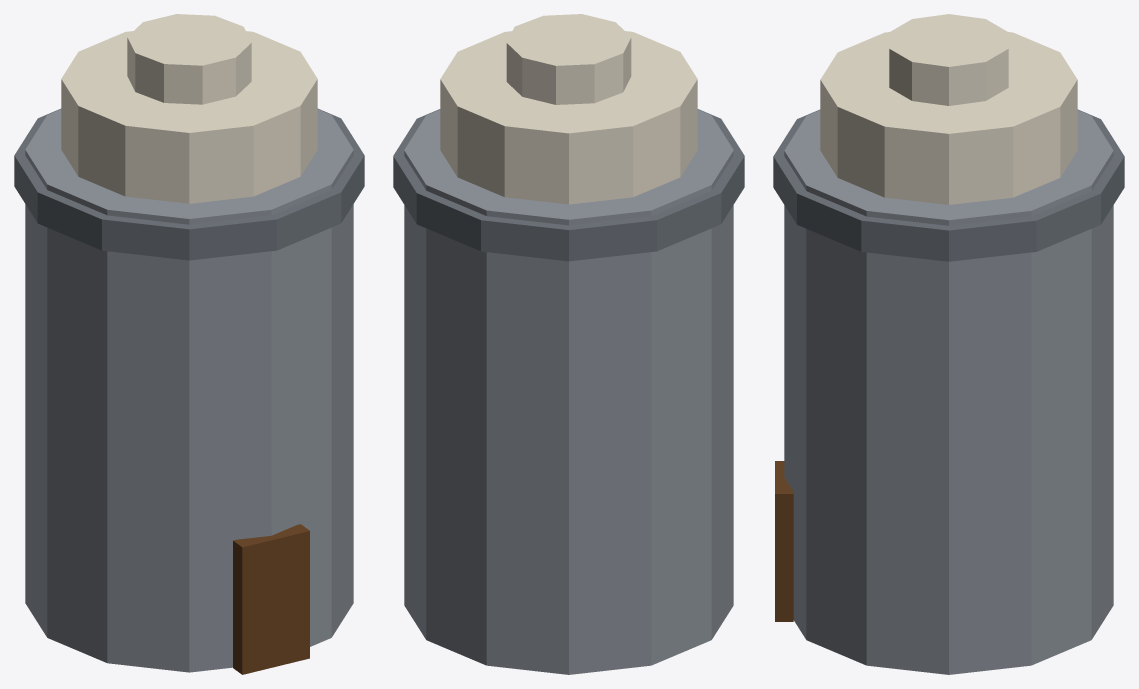
The model's file is silo.glb.
3 views of the same model, side by side, from view 1: azimuth 30°, elevation 25°; view 2: azimuth 150°, elevation 25°; view 3: azimuth 270°, elevation 25° (orthographic).
Bounding box in the file's own units: 2.24 × 3.97 × 2.24.
